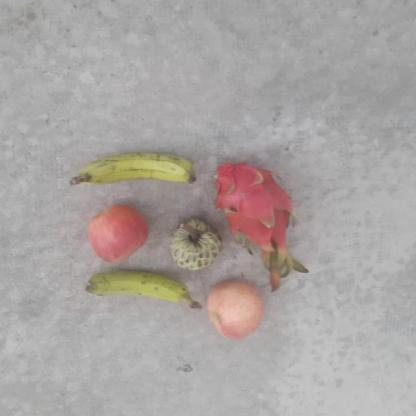annona: (166, 214, 223, 274)
apple: (84, 203, 149, 267), (204, 276, 266, 340)
banana: (76, 150, 199, 194), (80, 270, 196, 314)
pitaya: (210, 162, 296, 253)
